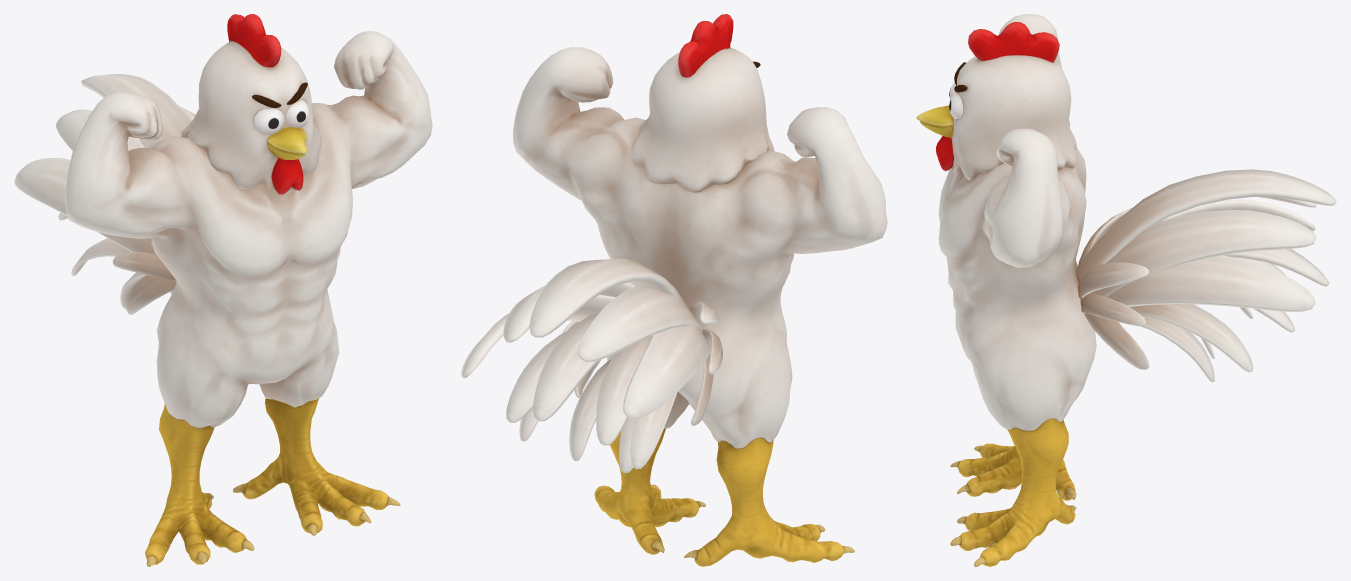
Rendered from chicken.glb.
3 renders of one model, left to right at view 1: azimuth 30°, elevation 25°; view 2: azimuth 150°, elevation 25°; view 3: azimuth 270°, elevation 25°, orthographic. The views are drawn at different scales.
Visible parts, largest first — view 1: Object006_Chicken_0, Object012_Chicken_0, Object029_Chicken_0, Object013_Chicken_0, Sphere001, Object034_Chicken_0, Object021_Chicken_0, Object033_Chicken_0, Box001, Object031_Chicken_0; view 2: Object006_Chicken_0, Object012_Chicken_0, Object021_Chicken_0, Object029_Chicken_0, Object013_Chicken_0, Object030_Chicken_0, Object035_Chicken_0, Object032_Chicken_0, Object031_Chicken_0, Object034_Chicken_0, Object033_Chicken_0; view 3: Object006_Chicken_0, Object012_Chicken_0, Object029_Chicken_0, Object021_Chicken_0, Object013_Chicken_0, Object031_Chicken_0, Object014_Chicken_0, Object032_Chicken_0, Object034_Chicken_0, Object035_Chicken_0, Object033_Chicken_0, Object030_Chicken_0.
Boxes of the visible parts, <box> form: Object006_Chicken_0: <box>65,31,432,566</box>; Object012_Chicken_0: <box>181,14,321,194</box>; Object029_Chicken_0: <box>14,158,155,254</box>; Object013_Chicken_0: <box>81,74,191,147</box>; Sphere001: <box>253,100,309,135</box>; Object034_Chicken_0: <box>125,275,176,314</box>; Object021_Chicken_0: <box>55,105,195,151</box>; Object033_Chicken_0: <box>112,251,176,281</box>; Box001: <box>271,158,303,194</box>; Object031_Chicken_0: <box>71,238,131,276</box>; Object006_Chicken_0: <box>513,47,887,566</box>; Object012_Chicken_0: <box>631,14,774,191</box>; Object021_Chicken_0: <box>503,282,703,362</box>; Object029_Chicken_0: <box>461,295,711,419</box>; Object013_Chicken_0: <box>529,258,683,337</box>; Object030_Chicken_0: <box>506,328,652,445</box>; Object035_Chicken_0: <box>533,313,599,421</box>; Object032_Chicken_0: <box>569,359,633,473</box>; Object031_Chicken_0: <box>519,391,677,469</box>; Object034_Chicken_0: <box>574,354,713,426</box>; Object033_Chicken_0: <box>562,321,722,374</box>; Object006_Chicken_0: <box>938,14,1096,566</box>; Object012_Chicken_0: <box>916,22,1076,180</box>; Object029_Chicken_0: <box>1107,199,1315,311</box>; Object021_Chicken_0: <box>1089,197,1316,297</box>; Object013_Chicken_0: <box>1075,169,1336,283</box>; Object031_Chicken_0: <box>1130,304,1253,372</box>; Object014_Chicken_0: <box>1078,208,1148,299</box>; Object032_Chicken_0: <box>1141,317,1214,382</box>; Object034_Chicken_0: <box>1084,313,1149,369</box>; Object035_Chicken_0: <box>1224,249,1329,286</box>; Object033_Chicken_0: <box>1080,294,1145,326</box>; Object030_Chicken_0: <box>1236,257,1295,332</box>.
Bounding box in the file's own units: 2.11 × 2.83 × 2.19.
1 material, 1 textured.
